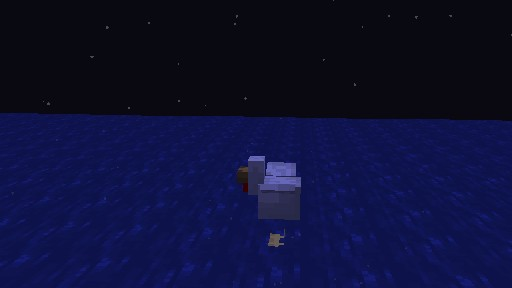chicken: (236, 155, 301, 247)
